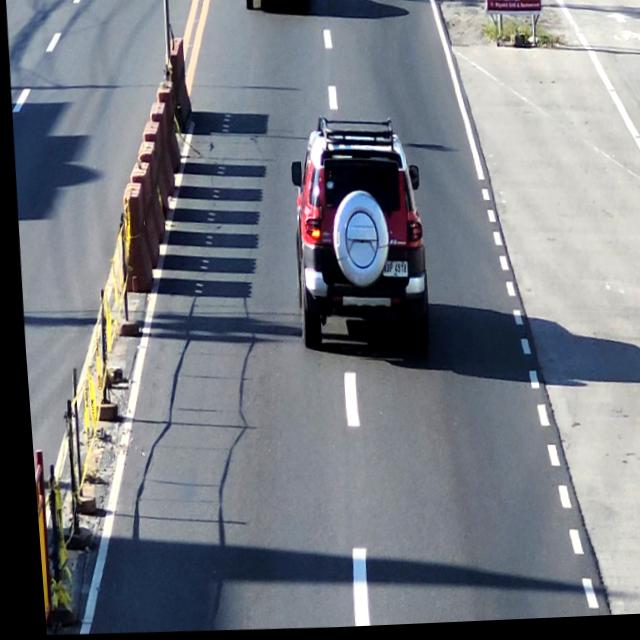Car: (283, 120, 429, 362)
License-Plate: (377, 262, 404, 283)
